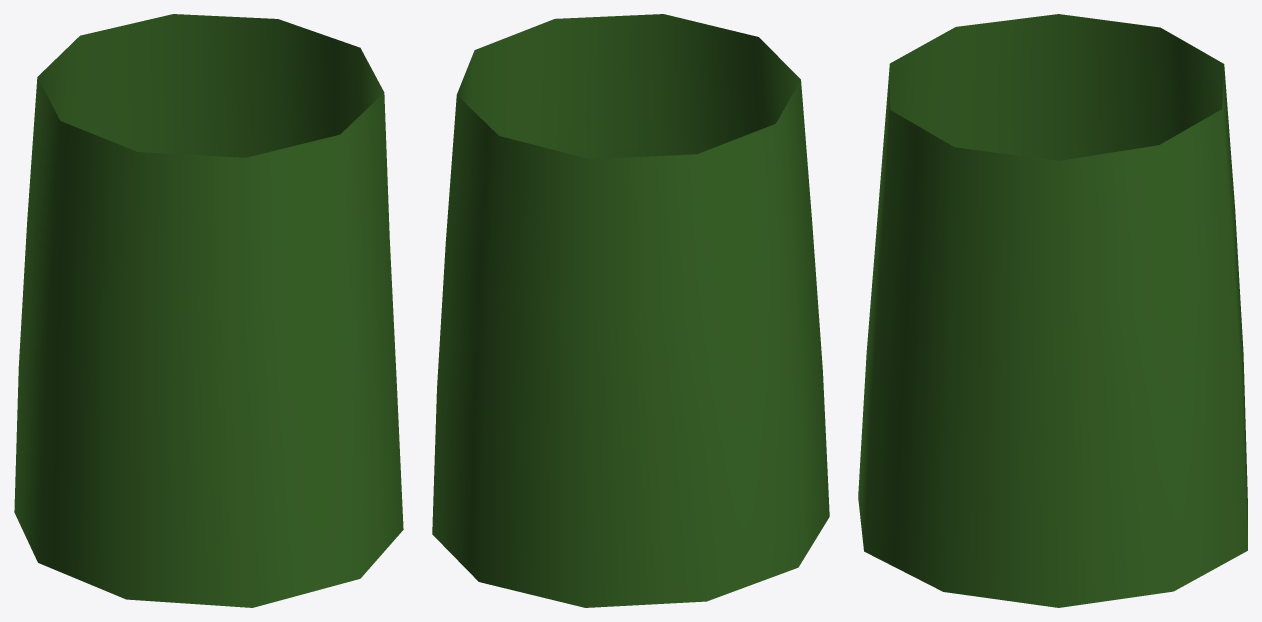
Rendered from jungle_armor_bracer.L.glb.
3 views of the same model, side by side, from view 1: azimuth 30°, elevation 25°; view 2: azimuth 150°, elevation 25°; view 3: azimuth 270°, elevation 25° (orthographic).
Parts seen in each view (by area): view 1: jungle_armor_bracer.L; view 2: jungle_armor_bracer.L; view 3: jungle_armor_bracer.L.
Part boxes in pixels (left/top/right/bottom): jungle_armor_bracer.L: left=14, top=14, right=403, bottom=607; jungle_armor_bracer.L: left=432, top=14, right=829, bottom=607; jungle_armor_bracer.L: left=858, top=14, right=1247, bottom=607.
Size of the model in its own units: 0.1277 by 0.1562 by 0.126.
